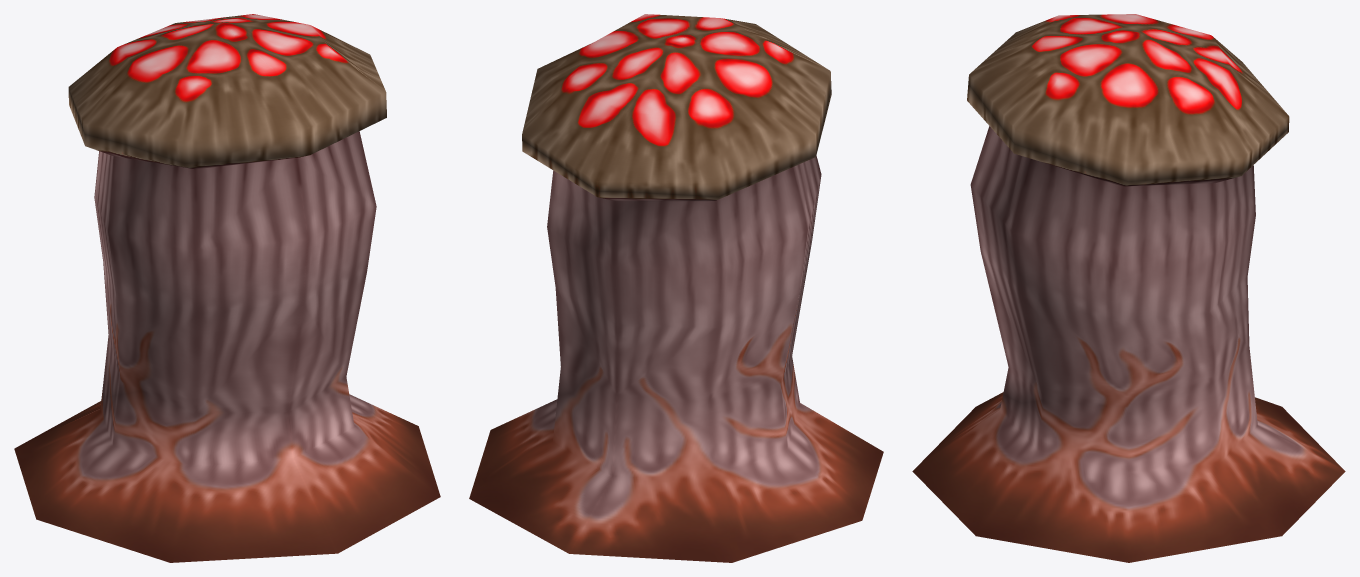
The model's file is Mushroom_001b.fbx.
3 views of the same model, side by side, from view 1: azimuth 30°, elevation 25°; view 2: azimuth 150°, elevation 25°; view 3: azimuth 270°, elevation 25° (orthographic). The views are drawn at different scales.
Visible parts, largest first — view 1: Mesh; view 2: Mesh; view 3: Mesh.
Boxes of the visible parts, x1,y1,x2,y2 form: Mesh: [14, 14, 440, 562]; Mesh: [469, 14, 883, 562]; Mesh: [912, 14, 1345, 562].
Bounding box in the file's own units: 70.81 × 78.92 × 70.81.
